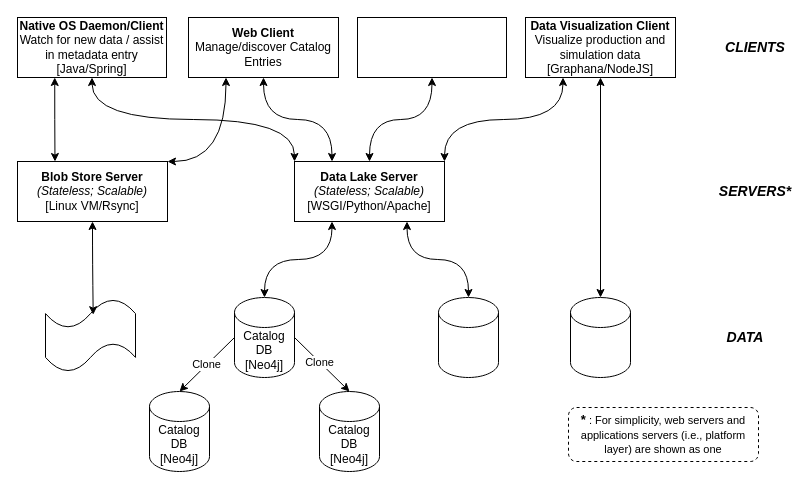
This 809x489 diagram has some shape labels left out. The box of each missing label's shape, as (x1, y1, x2, y2) in pixels:
File System: (44, 298, 136, 372)
Third-Party Clients Connect to data lake to manage/discover data: (356, 16, 506, 78)
Time-series [InFluxDB]: (570, 296, 630, 378)
User DB [SQL]: (438, 296, 498, 378)
